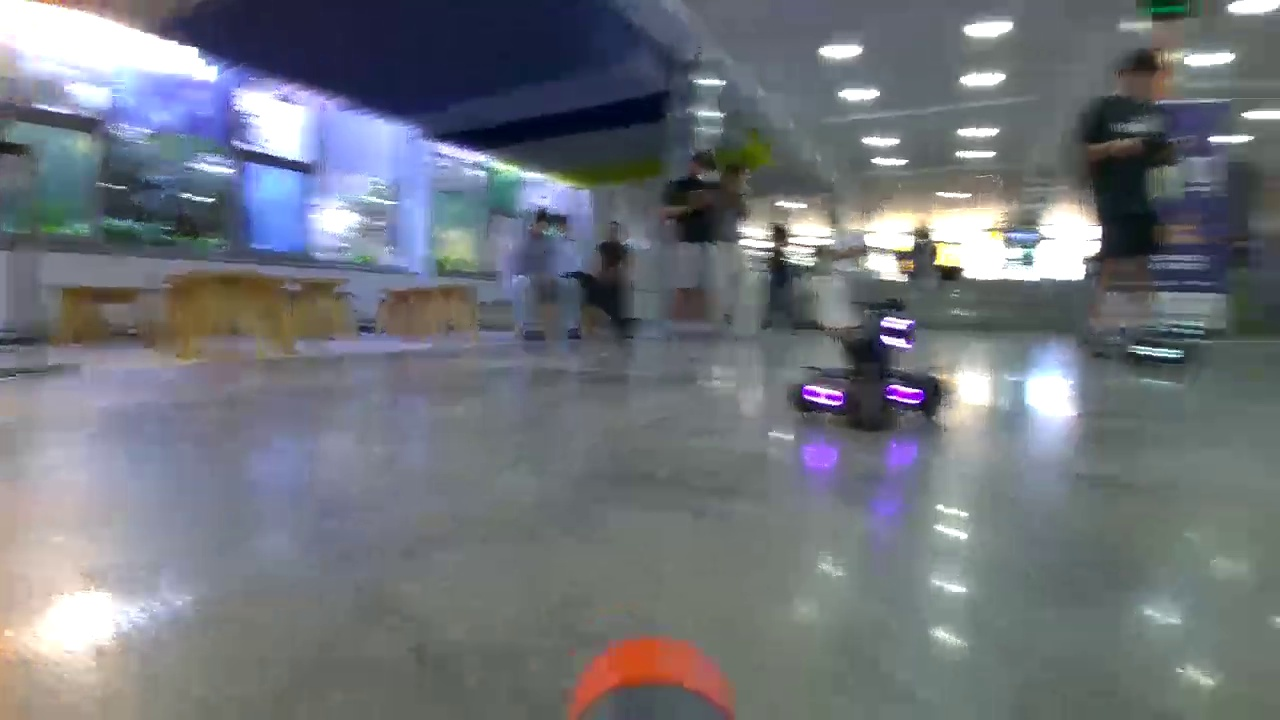robot: (792, 305, 944, 421), (1121, 320, 1206, 369)
